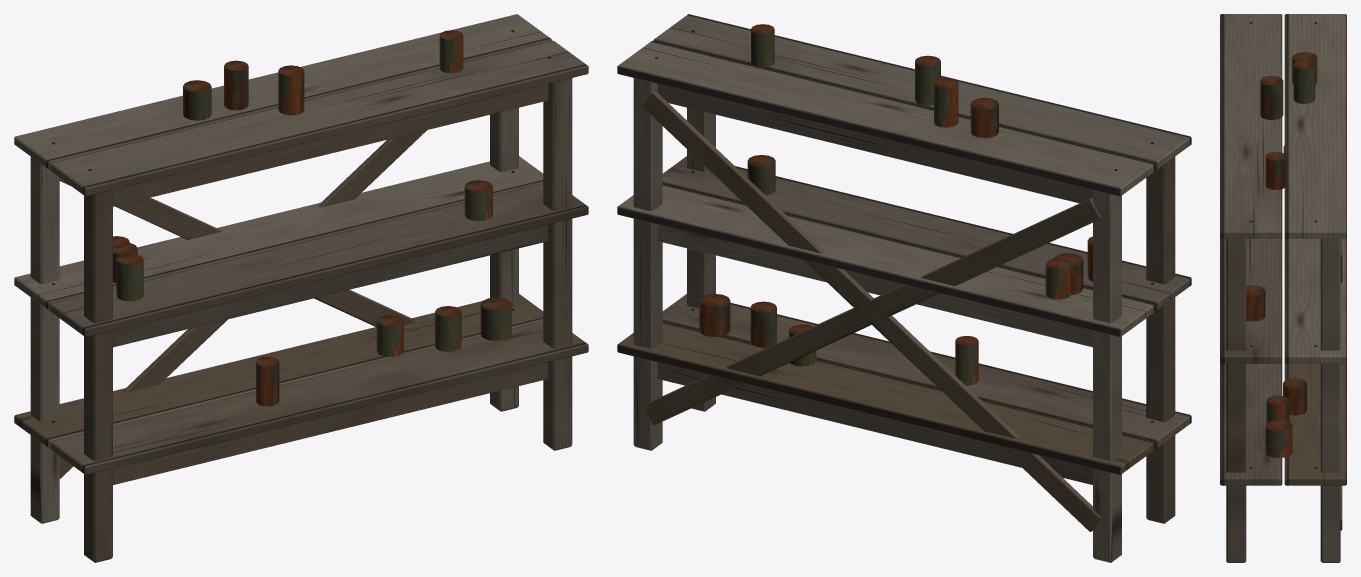
File: S7U_Shelf.fbx
3 views of the same model, side by side, from view 1: azimuth 30°, elevation 25°; view 2: azimuth 150°, elevation 25°; view 3: azimuth 270°, elevation 25° (orthographic). The views are drawn at different scales.
Visible parts, largest first — view 1: S7U_Shelf; view 2: S7U_Shelf; view 3: S7U_Shelf.
Boxes of the visible parts, x1,y1,x2,y2 form: S7U_Shelf: (14, 14, 588, 562); S7U_Shelf: (617, 14, 1191, 562); S7U_Shelf: (1220, 14, 1346, 562).
Bounding box in the file's own units: 1.8 × 1.43 × 0.442.
